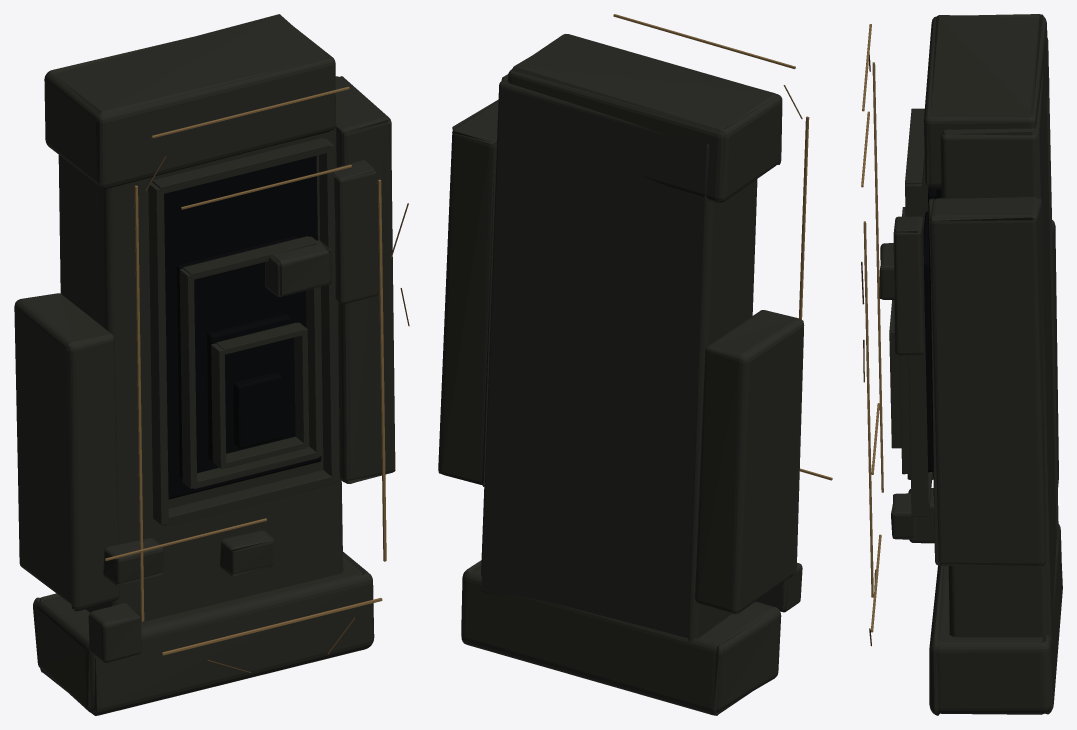
Rendered from monolith.glb.
3 views of the same model, side by side, from view 1: azimuth 30°, elevation 25°; view 2: azimuth 150°, elevation 25°; view 3: azimuth 270°, elevation 25° (orthographic). The views are drawn at different scales.
Parts seen in each view (by area): view 1: monolith_core, top_cap, left_mass, broken_plinth, right_mass, nested_shadow_0, nested_shadow_1, offset_block_2, nested_rim_0, nested_shadow_2, nested_rim_1, nested_shadow_3 (+19 smaller); view 2: monolith_core, left_mass, broken_plinth, top_cap, right_mass, offset_block_1, worn_edge_0, worn_edge_2; view 3: right_mass, monolith_core, top_cap, broken_plinth, offset_block_2, nested_rim_1, nested_shadow_1, worn_edge_0, nested_rim_2, worn_edge_1, nested_rim_9, nested_rim_5 (+5 smaller).
Part boxes in pixels (x1,y1,x2,y2): monolith_core: (58, 124, 343, 622); top_cap: (44, 14, 335, 189); left_mass: (14, 293, 119, 611); broken_plinth: (33, 552, 374, 715); right_mass: (335, 76, 395, 483); nested_shadow_0: (164, 156, 321, 499); nested_shadow_1: (177, 236, 301, 479); offset_block_2: (334, 160, 379, 304); nested_rim_0: (148, 182, 168, 525); nested_shadow_2: (207, 313, 292, 461); nested_rim_1: (319, 139, 339, 482); nested_shadow_3: (233, 372, 282, 448); monolith_core: (481, 74, 757, 642); left_mass: (695, 310, 804, 614); broken_plinth: (461, 560, 781, 715); top_cap: (508, 34, 782, 202); right_mass: (438, 99, 498, 486); offset_block_1: (756, 563, 802, 612); worn_edge_0: (799, 116, 809, 319); worn_edge_2: (613, 14, 795, 69); right_mass: (928, 197, 1046, 566); monolith_core: (940, 37, 1058, 645); top_cap: (923, 14, 1049, 189); broken_plinth: (929, 524, 1062, 715); offset_block_2: (893, 216, 924, 355); nested_rim_1: (905, 184, 928, 516); nested_shadow_1: (923, 211, 933, 472); worn_edge_0: (872, 62, 883, 492); nested_rim_2: (905, 108, 924, 184); worn_edge_1: (863, 221, 873, 597); nested_rim_9: (889, 331, 901, 448); nested_rim_5: (899, 355, 910, 474).
Bounding box in the file's own units: 1.51 × 2.67 × 0.8275.
